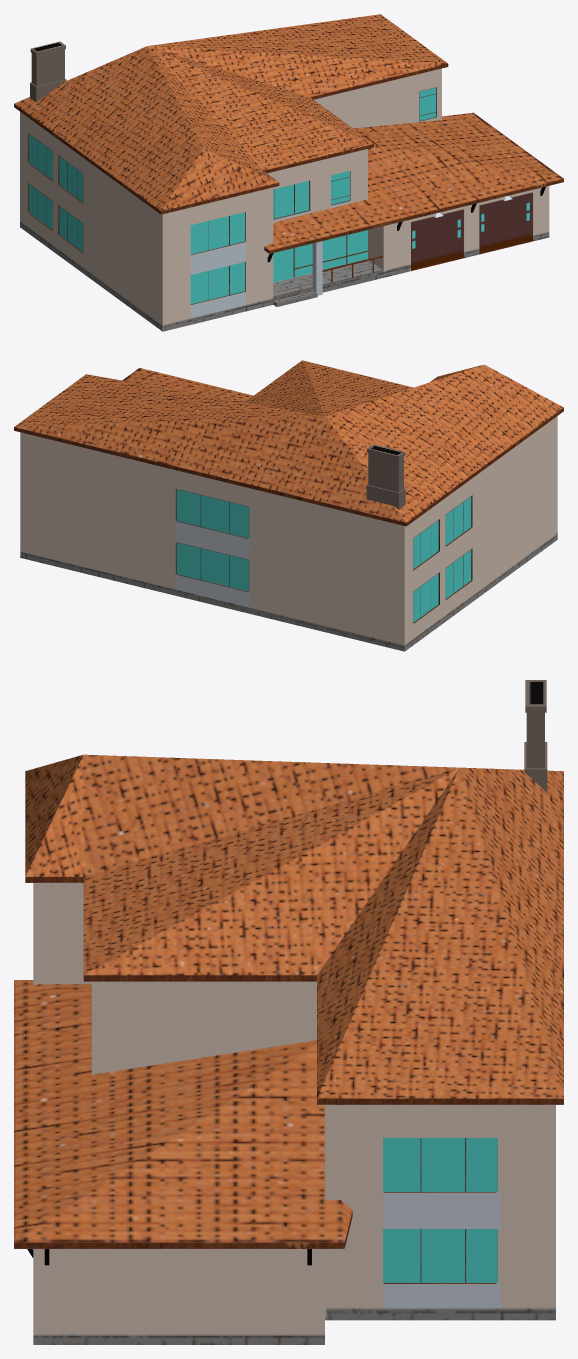
Rendered from mansion.glb.
The picture shows the model from 3 angles, top to bottom: view 1: azimuth 30°, elevation 25°; view 2: azimuth 150°, elevation 25°; view 3: azimuth 270°, elevation 25°; orthographic projection. The views are drawn at different scales.
Visible parts, largest first — view 1: Line001; view 2: Line001; view 3: Line001.
Part boxes in pixels (<box>): Line001: <box>14,14,563,331</box>; Line001: <box>14,360,563,651</box>; Line001: <box>14,680,563,1344</box>.
Size of the model in its own units: 3.68 by 1.57 by 2.39.
Materials: 1 (1 with a texture image).
